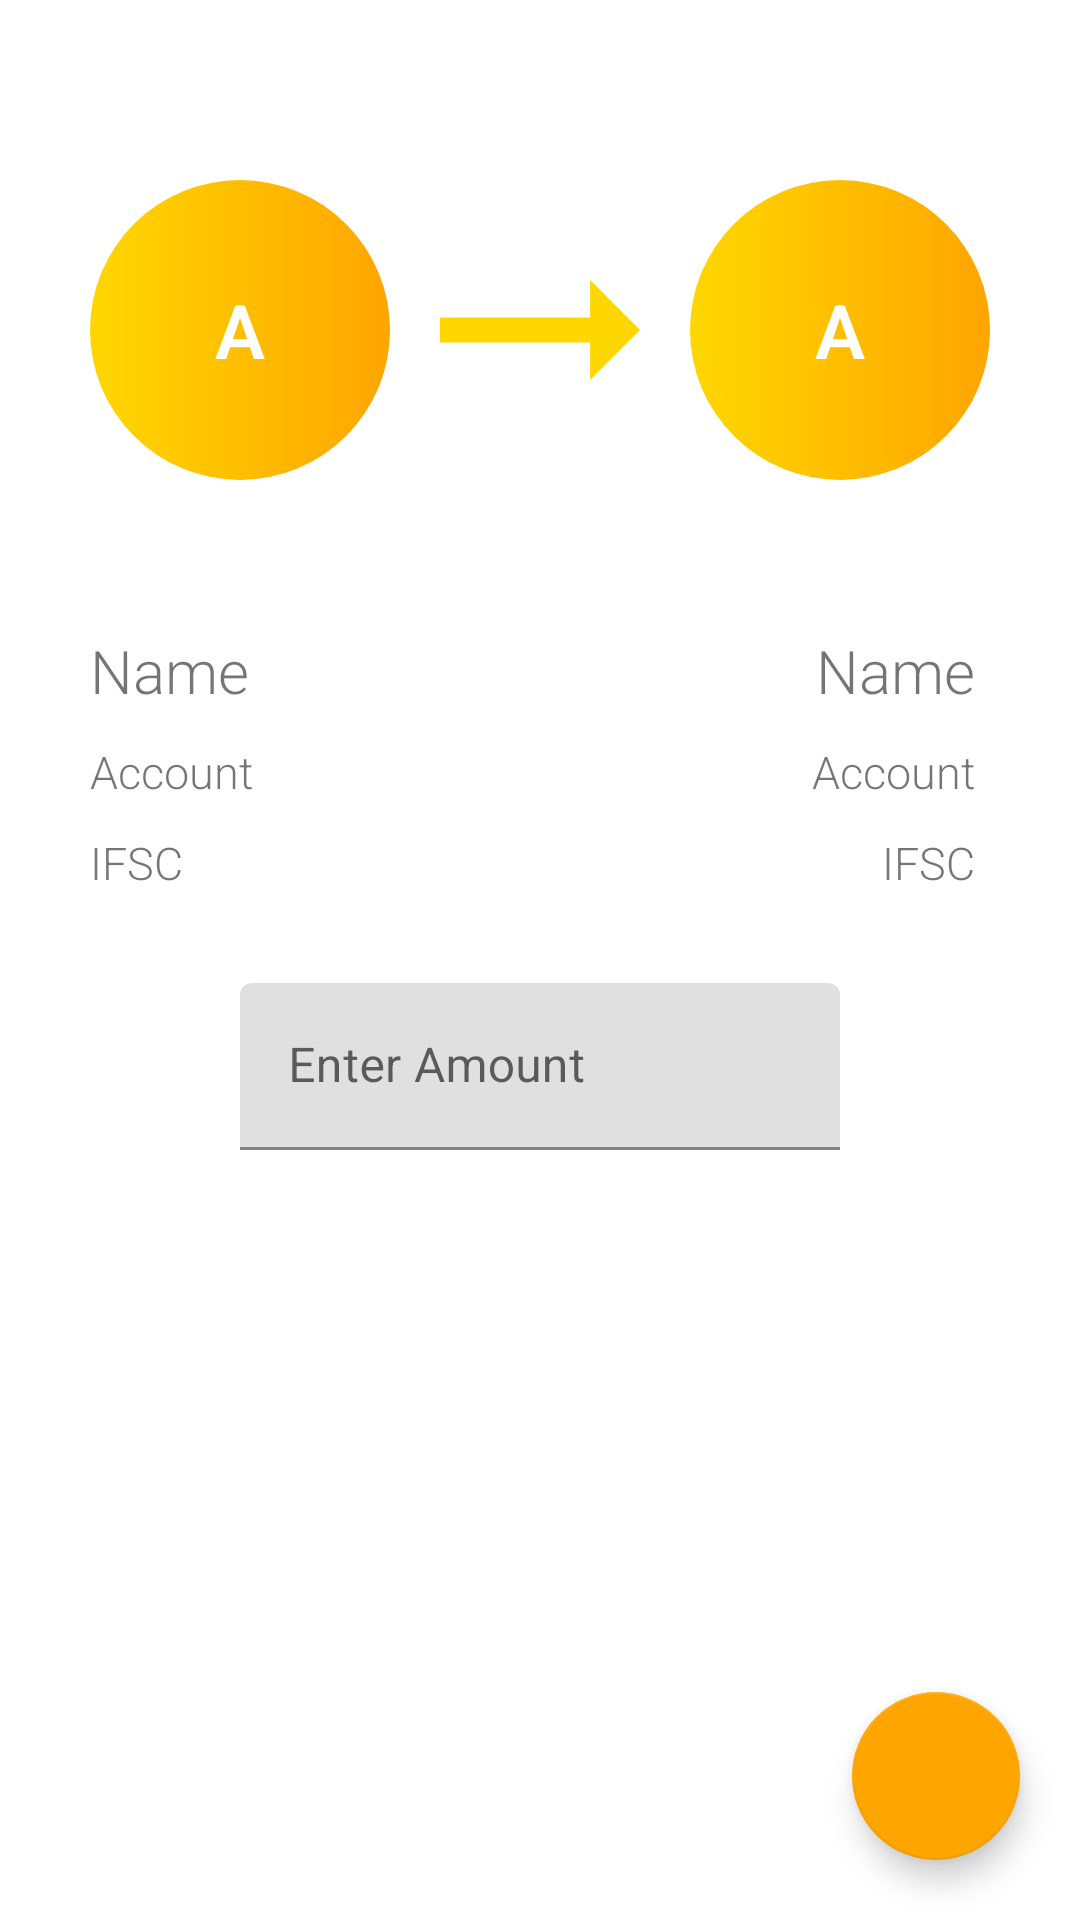

Icon click points for this 1080x1920 phone screenshot, format [x,y]:
arrow right: [540,330]
